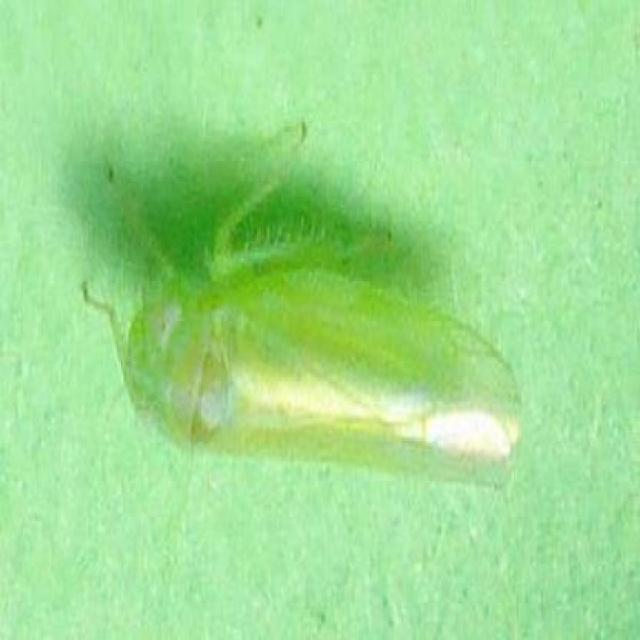green-leafhopper: (109, 215, 520, 477)
